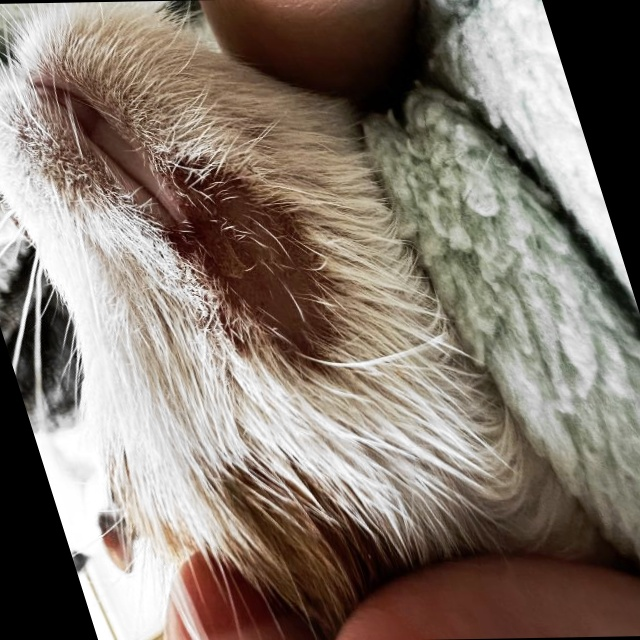ringworm: (163, 168, 348, 381)
